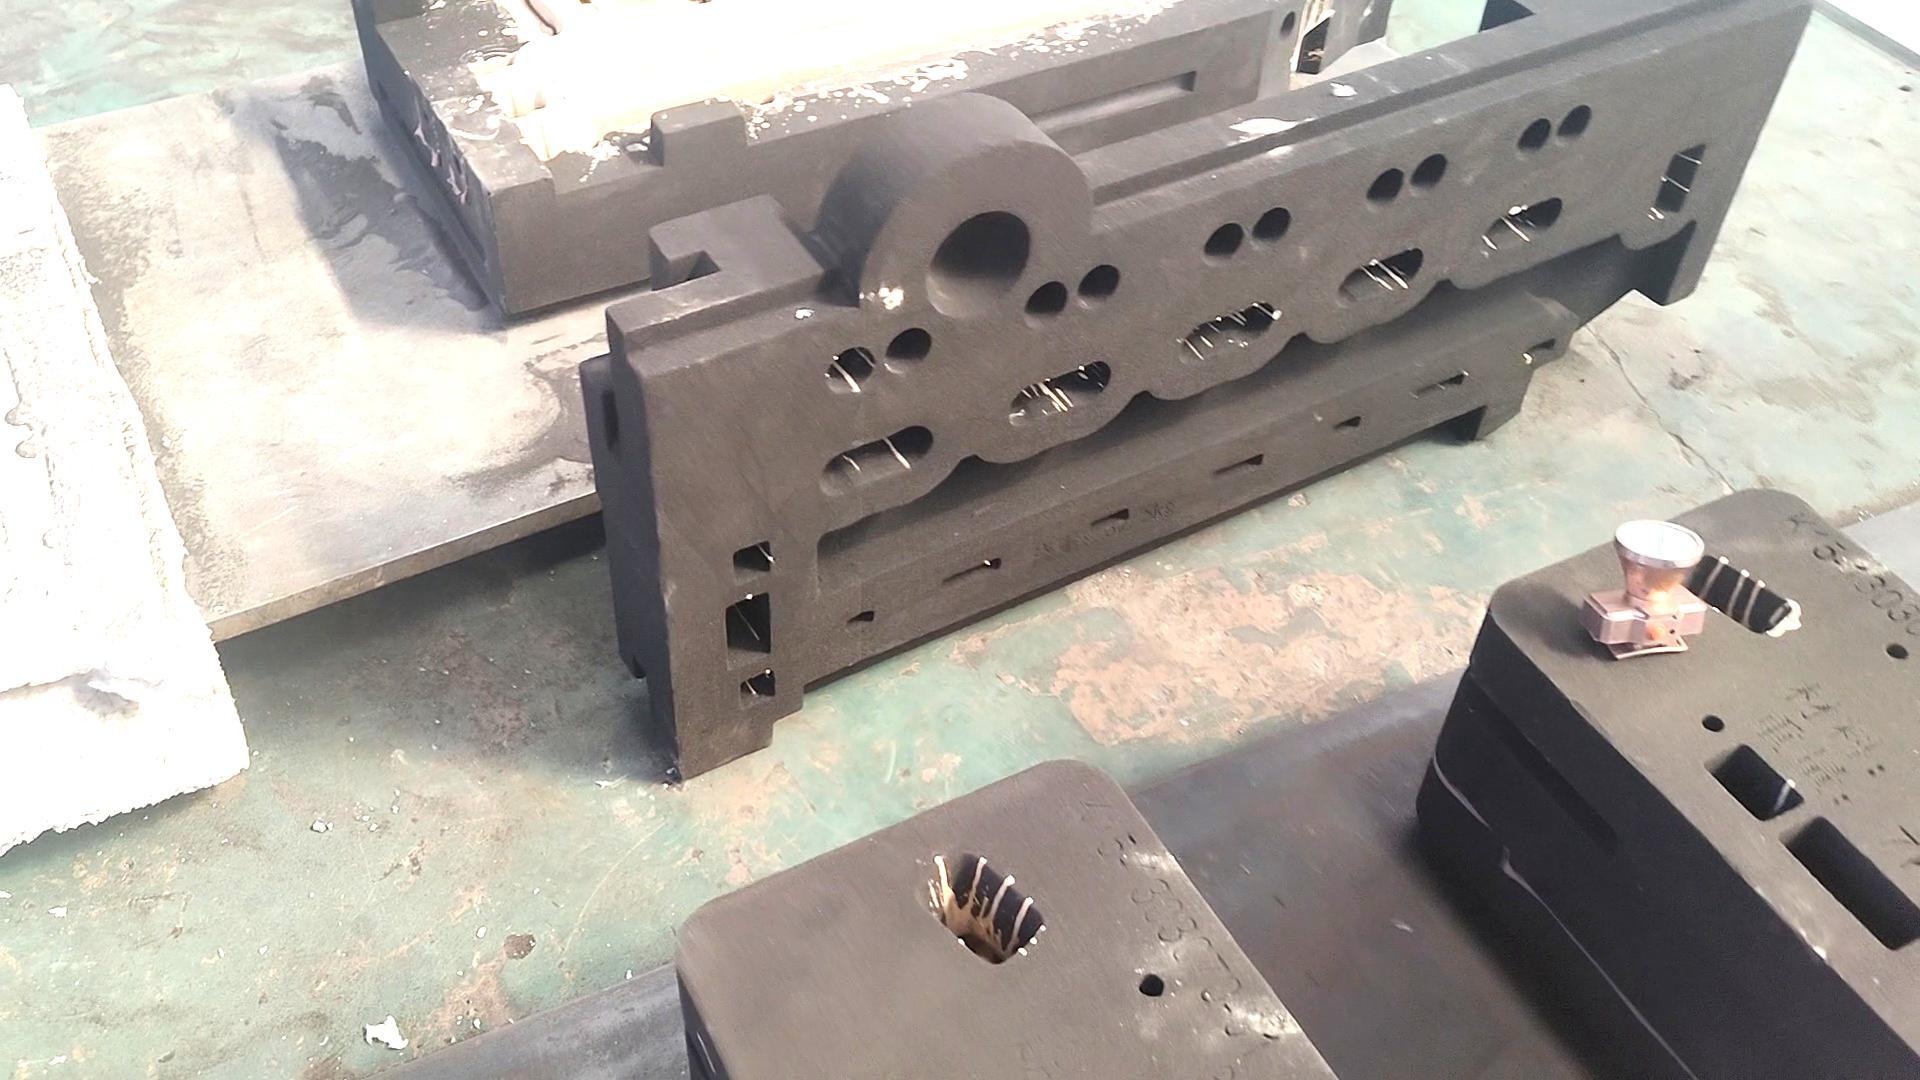pouring hole: (920, 211, 1031, 320)
